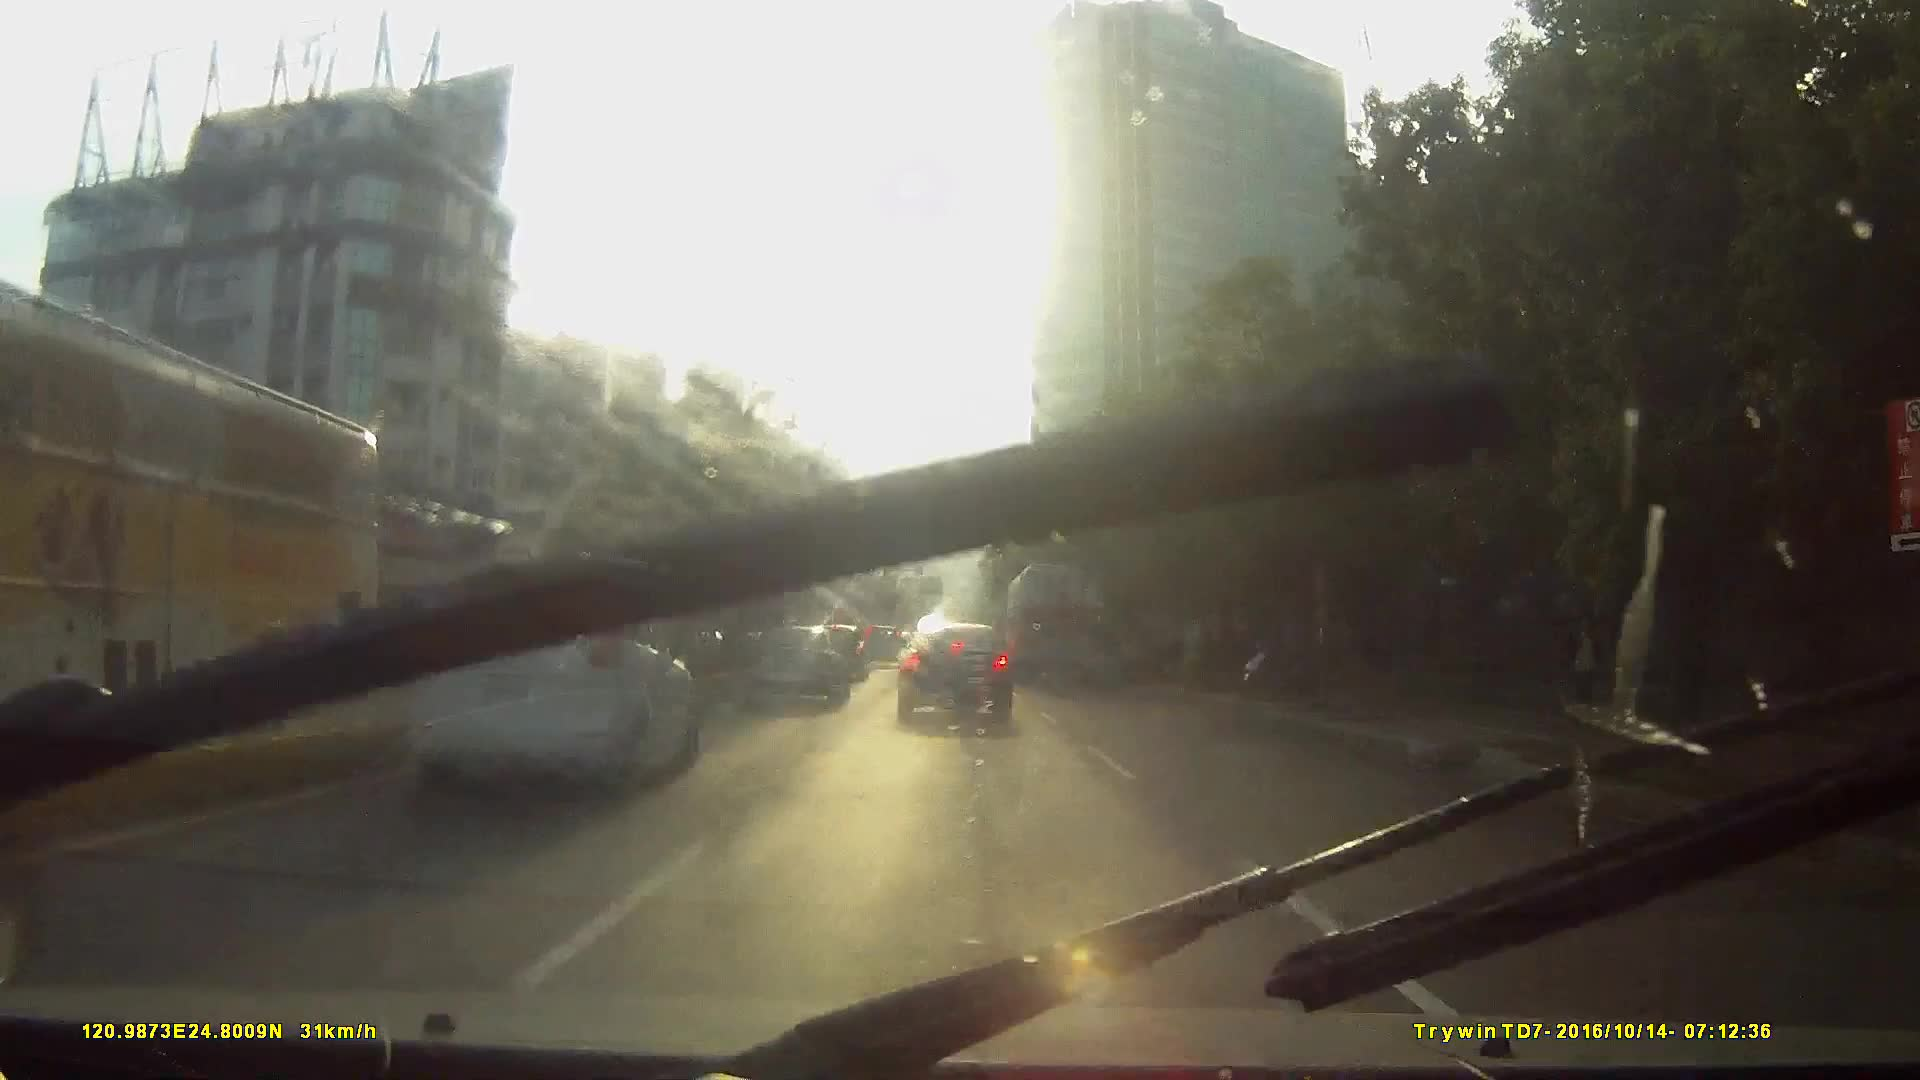pedestrian: (1543, 585, 1614, 731)
vehicle: (1, 282, 416, 812), (250, 556, 684, 868), (399, 567, 696, 799), (1007, 559, 1112, 685), (892, 615, 1010, 724), (739, 620, 848, 704), (854, 618, 903, 667)
